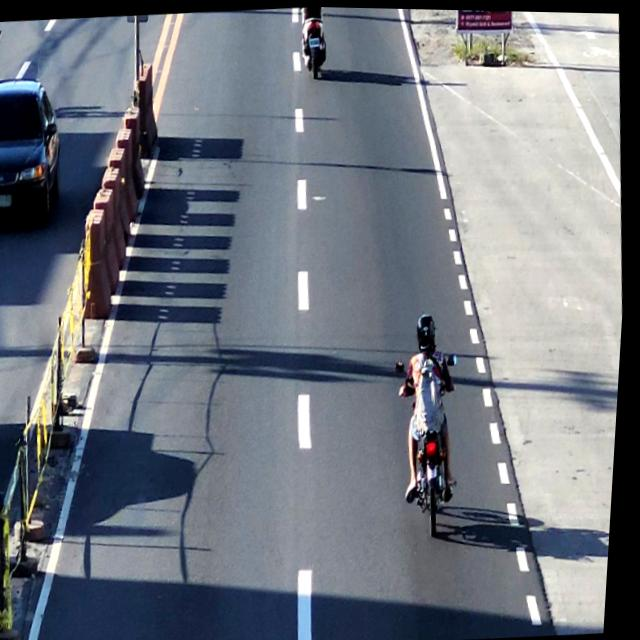License-Plate: (306, 30, 321, 49)
Motorcycle: (390, 300, 476, 536), (289, 5, 333, 85)
